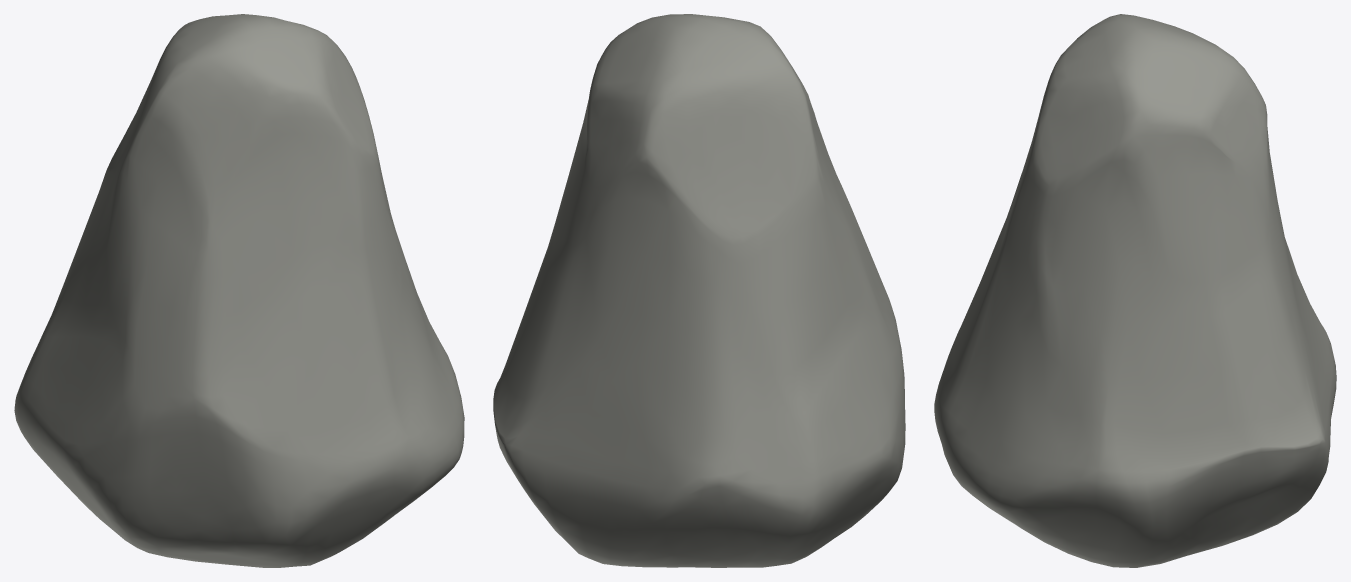
File: Environment_Rock_2.glb
3 views of the same model, side by side, from view 1: azimuth 30°, elevation 25°; view 2: azimuth 150°, elevation 25°; view 3: azimuth 270°, elevation 25° (orthographic). The views are drawn at different scales.
Parts seen in each view (by area): view 1: Environment_Rock_2; view 2: Environment_Rock_2; view 3: Environment_Rock_2.
Boxes of the visible parts, x1=… form: Environment_Rock_2: x1=14, y1=14, x2=464, y2=567; Environment_Rock_2: x1=493, y1=14, x2=905, y2=567; Environment_Rock_2: x1=934, y1=14, x2=1336, y2=567.
Bounding box in the file's own units: 0.7832 × 1.05 × 0.7585.
1 material, 1 textured.
